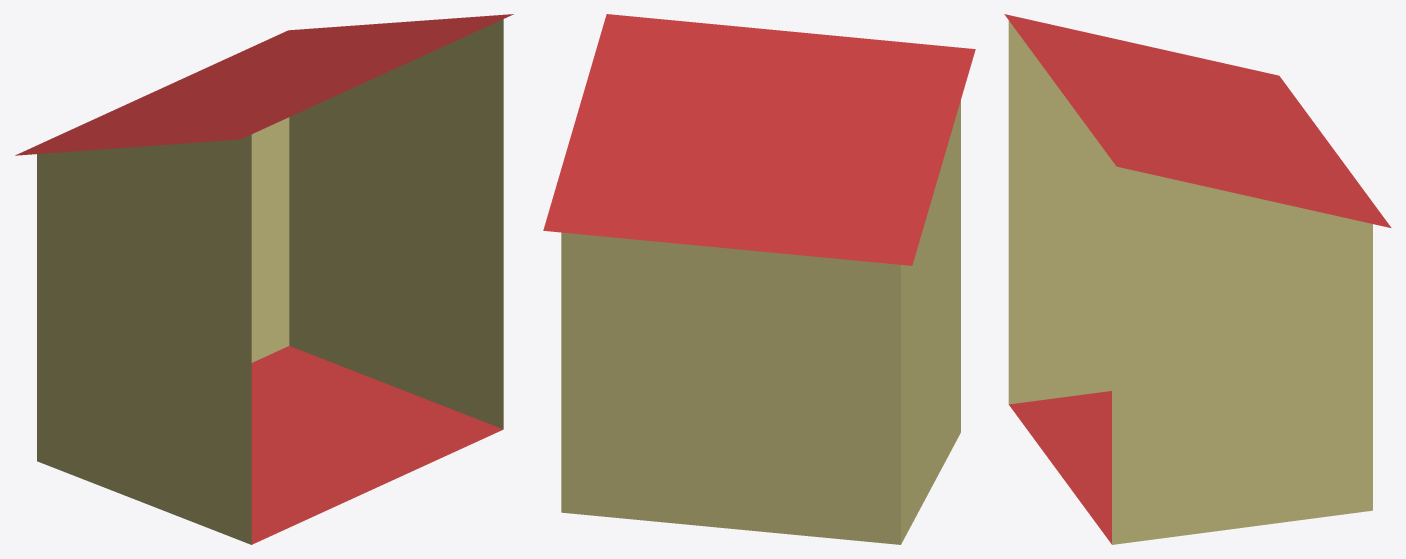
The picture shows the model from 3 angles, left to right: view 1: azimuth 30°, elevation 25°; view 2: azimuth 150°, elevation 25°; view 3: azimuth 270°, elevation 25°; orthographic projection. The views are drawn at different scales.
Bounding box in the file's own units: 7.44 × 6.45 × 7.06.
